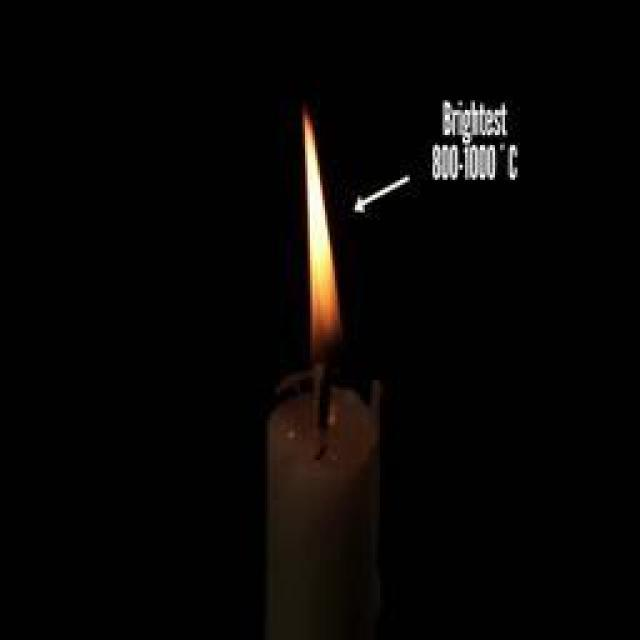Fire: (302, 118, 338, 346)
